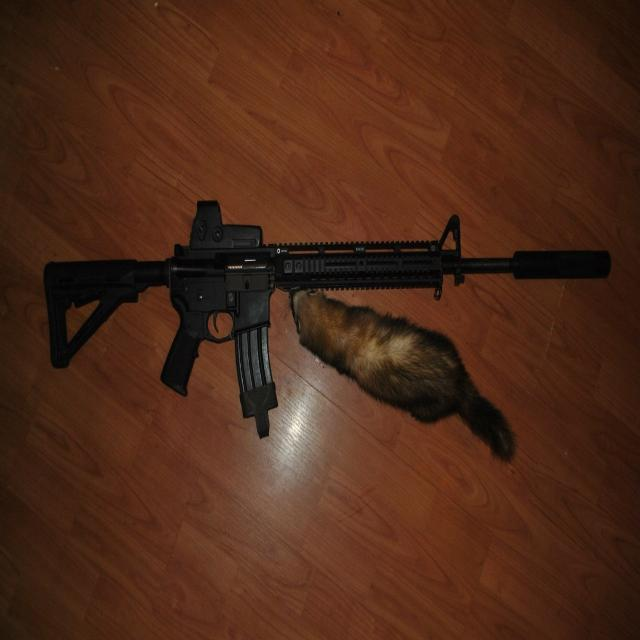firearm: (41, 192, 613, 444)
